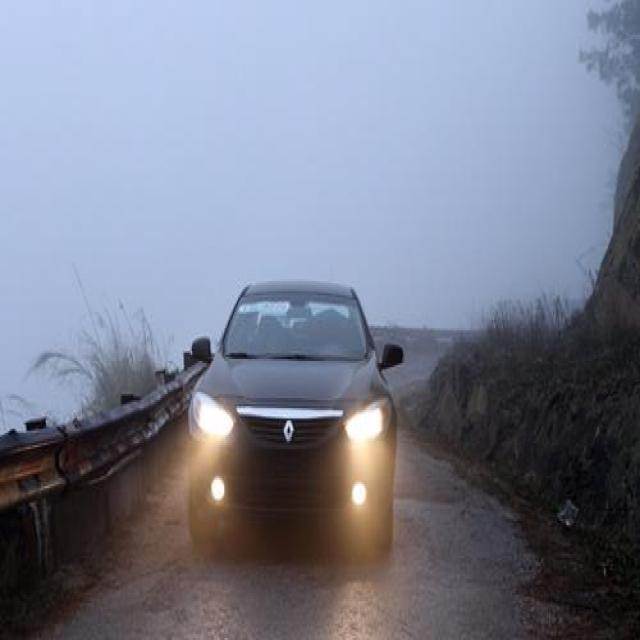Car: (184, 277, 407, 561)
